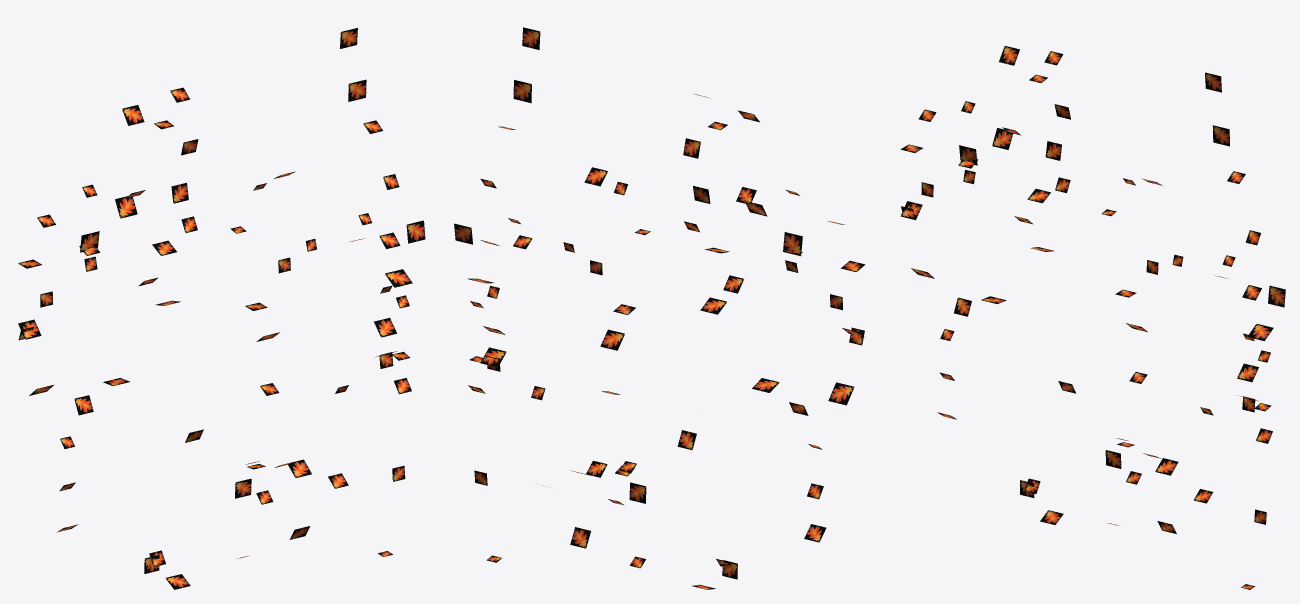
File: leaves.glb
The picture shows the model from 3 angles, left to right: view 1: azimuth 30°, elevation 25°; view 2: azimuth 150°, elevation 25°; view 3: azimuth 330°, elevation 25°; orthographic projection. The views are drawn at different scales.
Parts seen in each view (by area): view 1: leaves; view 2: leaves; view 3: leaves.
Boxes of the visible parts, x1,y1,x2,y2 form: leaves: [18, 28, 425, 589]; leaves: [454, 27, 865, 589]; leaves: [900, 46, 1285, 589].
Bounding box in the file's own units: 0.0805 × 0.103 × 0.00345.
Materials: 1 (1 with a texture image).
